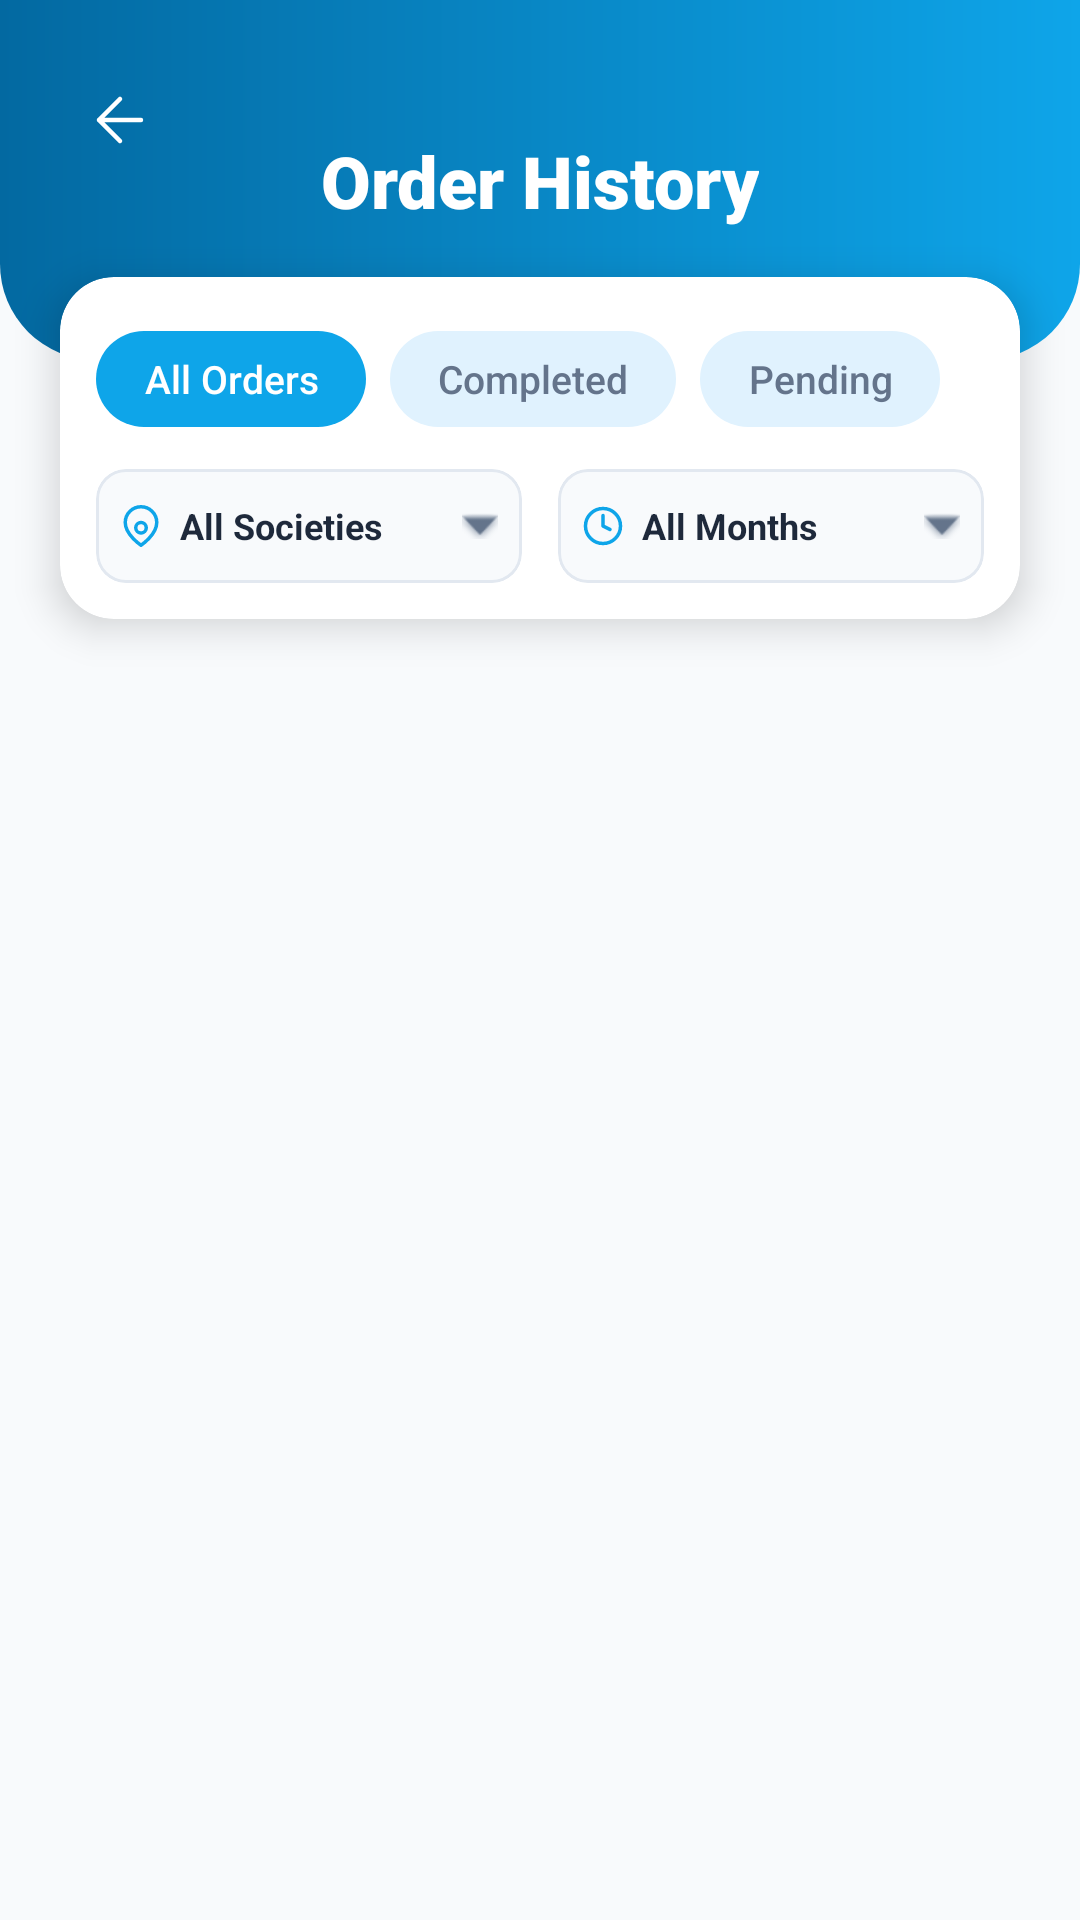

Point at icon controls on the screen. Image size 1080×1920, points as (x,y).
arrow down float: (480,526), (942,526)
back premium: (119,120)
clock: (603,526)
pin: (141,526)
